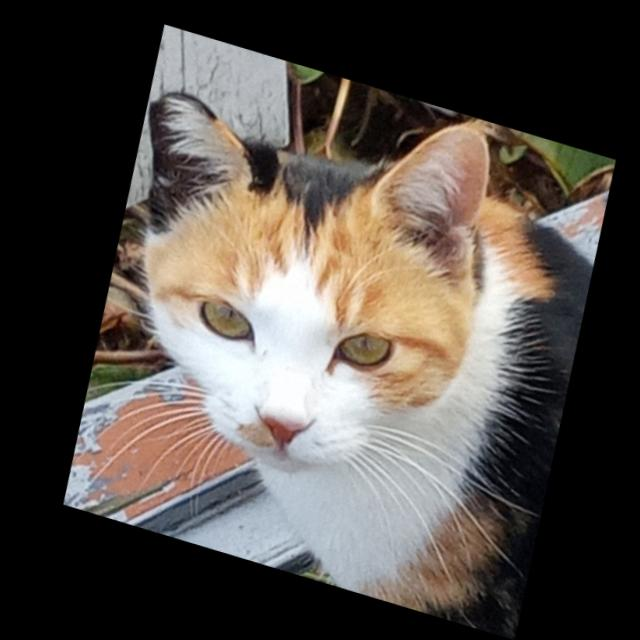animals: (58, 23, 540, 521)
